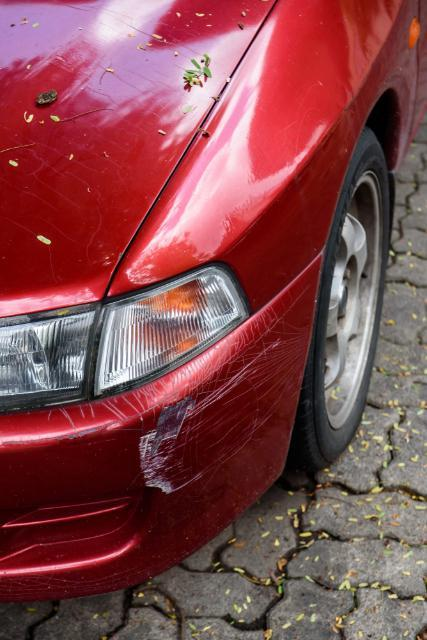scratch: (139, 336, 294, 495)
